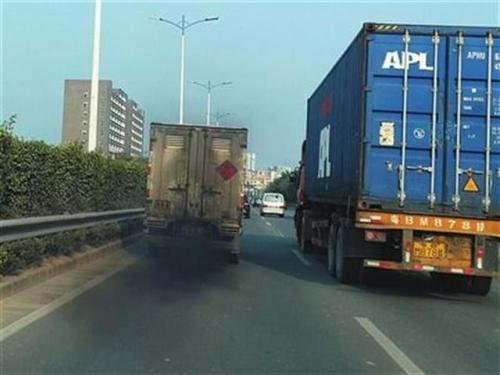smoke: (122, 227, 241, 303)
